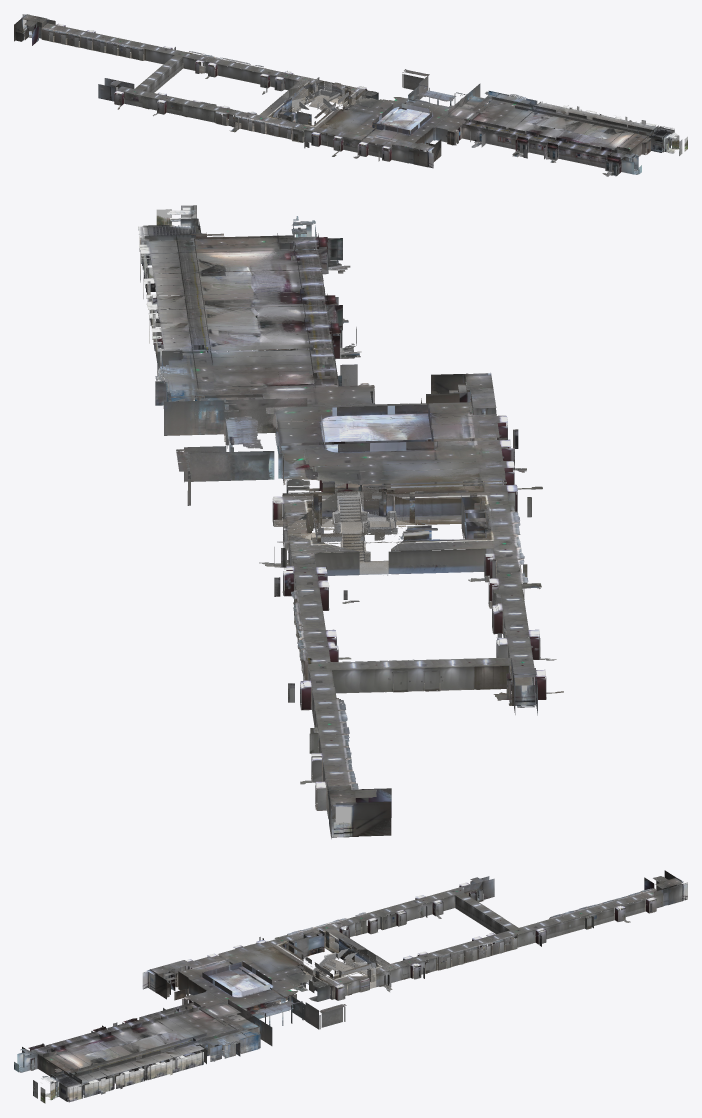
3 views of the same model, one above another, from view 1: azimuth 30°, elevation 25°; view 2: azimuth 150°, elevation 25°; view 3: azimuth 270°, elevation 25° (orthographic). The views are drawn at different scales.
Parts seen in each view (by area): view 1: structure_p0, stairwell_measured, structure_p1; view 2: structure_p0, structure_p1, stairwell_measured; view 3: structure_p0, stairwell_measured, structure_p1.
Part boxes in pixels (x1,y1,x2,y2): structure_p0: (14,14,687,176); stairwell_measured: (282,81,356,114); structure_p1: (21,14,677,174); structure_p0: (138,205,563,838); structure_p1: (139,213,556,823); stairwell_measured: (287,483,415,575); structure_p0: (14,870,687,1103); stairwell_measured: (303,945,376,989); structure_p1: (16,876,683,1098).
Bounding box in the file's own units: 87.31 × 4.01 × 116.
Materials: 2 (2 with a texture image).
